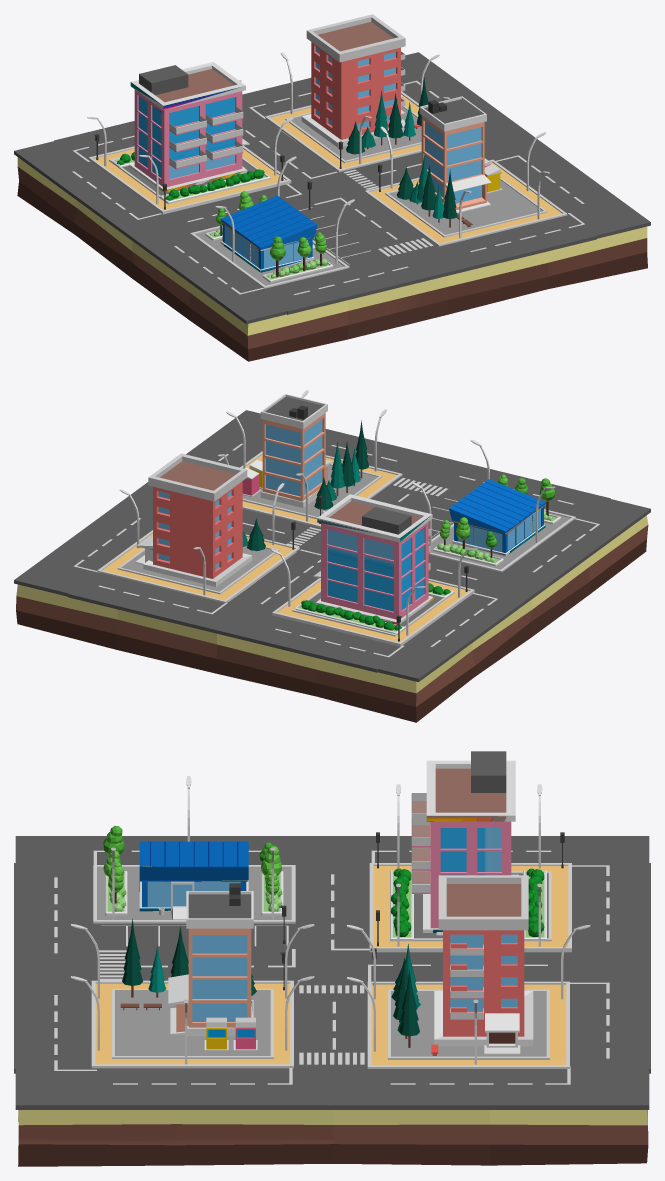
File: Map.gltf
The picture shows the model from 3 angles, top to bottom: view 1: azimuth 30°, elevation 25°; view 2: azimuth 150°, elevation 25°; view 3: azimuth 270°, elevation 25°; orthographic projection. The views are drawn at different scales.
Parts seen in each view (by area): view 1: ROAD, Floor_4, House, House_1, House_2, Shop, Floor.4_2, Floor_2, Floor, ROAD.Lines.12, Floor_1, Floor.4_3 (+5 smaller); view 2: ROAD, Floor_4, House, House_1, House_2, Shop, Floor, Floor_1, ROAD.Lines.12, Floor.4_3, Floor.4_1, Floor_2 (+4 smaller); view 3: ROAD, Floor_4, House_1, House, House_2, Shop, Floor.4_2, Floor_1, Floor_2, Floor, Floor.4_1, ROAD.Lines.12 (+10 smaller).
Part boxes in pixels (x1,y1,x2,y2): ROAD: (14, 52, 650, 324); Floor_4: (17, 128, 647, 361); House: (129, 62, 249, 192); House_1: (301, 14, 405, 147); House_2: (419, 96, 491, 212); Shop: (220, 195, 317, 272); Floor.4_2: (385, 177, 547, 237); Floor_2: (364, 159, 567, 246); Floor: (88, 145, 291, 214); ROAD.Lines.12: (72, 80, 584, 294); Floor_1: (265, 91, 421, 172); Floor.4_3: (190, 225, 349, 288); ROAD: (14, 410, 650, 681); Floor_4: (16, 515, 648, 722); House: (313, 494, 433, 624); House_1: (135, 453, 252, 586); House_2: (260, 394, 332, 507); Shop: (449, 479, 545, 556); Floor: (272, 578, 474, 646); Floor_1: (97, 530, 299, 603); ROAD.Lines.12: (73, 443, 599, 657); Floor.4_3: (428, 509, 575, 572); Floor.4_1: (117, 546, 279, 594); Floor_2: (240, 451, 402, 527); ROAD: (14, 836, 650, 1109); Floor_4: (18, 1110, 648, 1166); House_1: (434, 875, 533, 1054); House: (411, 751, 518, 935); House_2: (168, 883, 253, 1036); Shop: (139, 841, 248, 919); Floor.4_2: (112, 989, 273, 1058); Floor_1: (367, 981, 569, 1068); Floor_2: (91, 980, 293, 1068); Floor: (369, 863, 571, 952); Floor.4_1: (388, 989, 549, 1059); ROAD.Lines.12: (54, 850, 609, 1084).
Bounding box in the file's own units: 2192 × 863 × 2192.
Materials: 1 (1 with a texture image).
